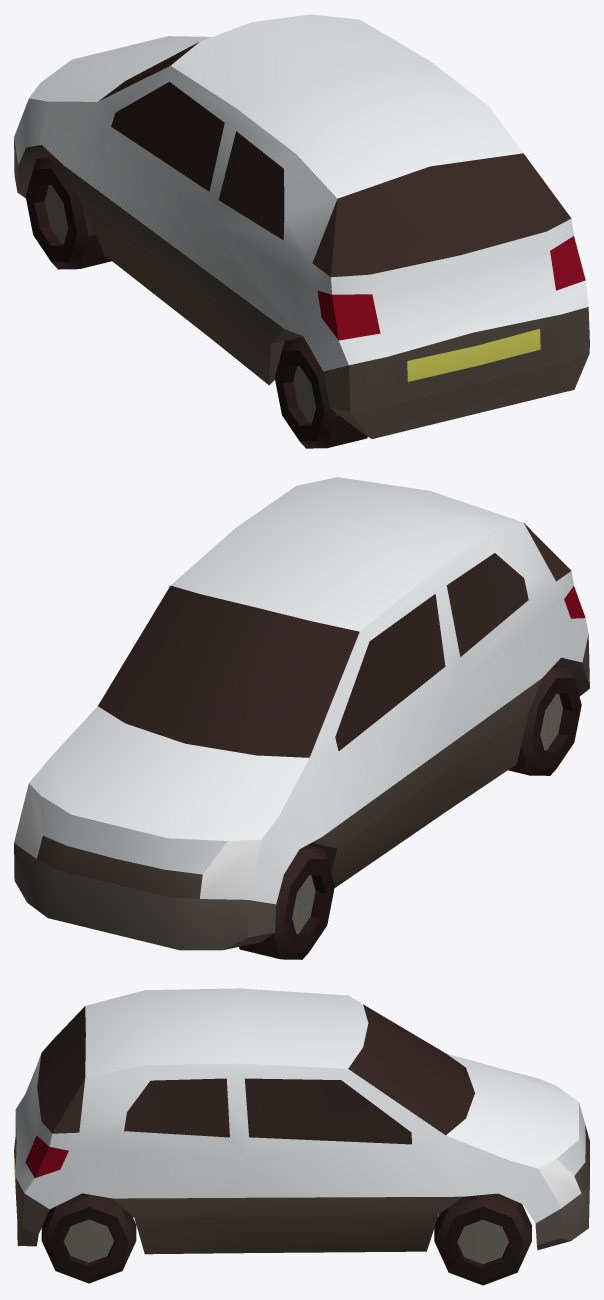
The model's file is ShibuyaCar4.obj.
3 renders of one model, top to bottom at view 1: azimuth 30°, elevation 25°; view 2: azimuth 150°, elevation 25°; view 3: azimuth 270°, elevation 25°, orthographic. The views are drawn at different scales.
Visible parts, largest first — view 1: Car_Carrosserie, Car_Base; view 2: Car_Carrosserie, Car_Base; view 3: Car_Carrosserie, Car_Base.
Boxes of the visible parts, x1,y1,x2,y2 form: Car_Carrosserie: (14, 14, 588, 371); Car_Base: (14, 42, 589, 448); Car_Carrosserie: (29, 477, 588, 904); Car_Base: (14, 523, 589, 959); Car_Carrosserie: (15, 988, 585, 1223); Car_Base: (14, 1004, 589, 1285).
Size of the model in its own units: 1.94 by 1.98 by 4.67.
1 material, 1 textured.
